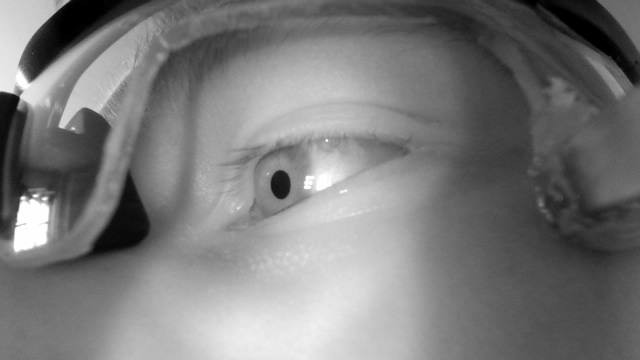pupil: (270, 169, 292, 201)
